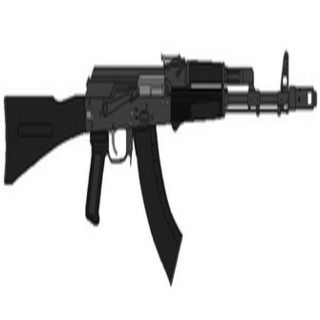rifle: (4, 48, 318, 284)
